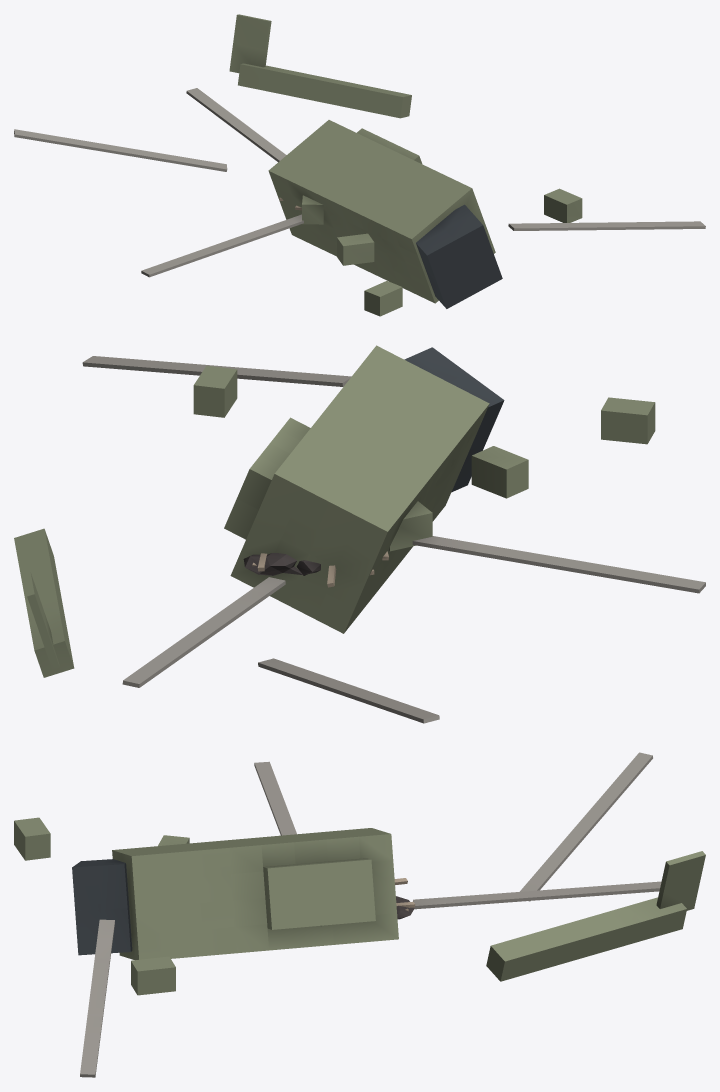
Rendered from helicoptero.glb.
3 renders of one model, top to bottom at view 1: azimuth 30°, elevation 25°; view 2: azimuth 150°, elevation 25°; view 3: azimuth 270°, elevation 25°, orthographic. The views are drawn at different scales.
Visible parts, largest first — view 1: helicoptero_corpo, helicoptero_cauda, helicoptero_pa2, helicoptero_pa3, helicoptero_pa0, helicoptero_pa1, helicoptero_caixa1, helicoptero_caixa4, helicoptero_caixa3, helicoptero_caixa0; view 2: helicoptero_corpo, helicoptero_cauda, helicoptero_pa3, helicoptero_pa1, helicoptero_pa0, helicoptero_pa2, helicoptero_caixa3, helicoptero_caixa1, helicoptero_caixa4, helicoptero_ent, helicoptero_caixa0; view 3: helicoptero_corpo, helicoptero_cauda, helicoptero_pa2, helicoptero_pa0, helicoptero_pa1, helicoptero_caixa4, helicoptero_caixa1, helicoptero_pa3.
Boxes of the visible parts, x1,y1,x2,y2 form: helicoptero_corpo: (268,120,502,308); helicoptero_cauda: (229,14,411,118); helicoptero_pa2: (14,129,227,171); helicoptero_pa3: (141,214,303,277); helicoptero_pa0: (508,221,705,230); helicoptero_pa1: (186,88,286,162); helicoptero_caixa1: (364,281,402,316); helicoptero_caixa4: (544,188,582,222); helicoptero_caixa3: (337,233,374,265); helicoptero_caixa0: (302,195,323,224); helicoptero_corpo: (224,345,504,633); helicoptero_cauda: (14,528,74,677); helicoptero_pa3: (412,536,705,593); helicoptero_pa1: (122,577,285,687); helicoptero_pa0: (82,356,351,386); helicoptero_pa2: (258,658,439,723); helicoptero_caixa3: (471,446,528,498); helicoptero_caixa1: (601,397,655,444); helicoptero_caixa4: (193,365,237,417); helicoptero_ent: (243,551,388,587); helicoptero_caixa0: (389,501,432,551); helicoptero_corpo: (72,828,398,959); helicoptero_cauda: (486,851,705,981); helicoptero_pa2: (519,752,652,901); helicoptero_pa0: (80,919,114,1077); helicoptero_pa1: (413,881,661,909); helicoptero_caixa4: (131,956,175,995); helicoptero_caixa1: (14,817,50,860); helicoptero_pa3: (254,761,296,835).
Size of what is drawn, in the model's own units: 15.61 by 3.2 by 15.67.
